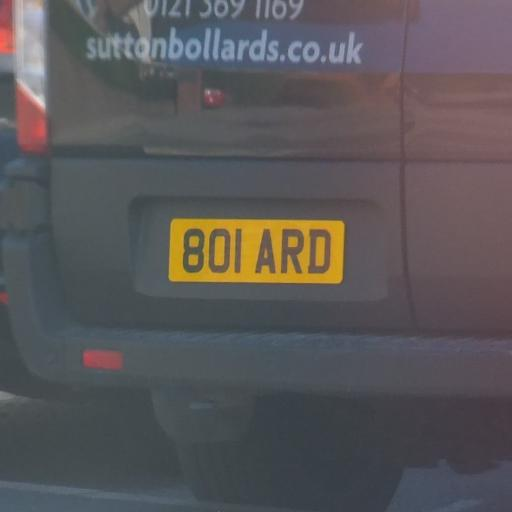numberplates: (169, 219, 344, 284)
